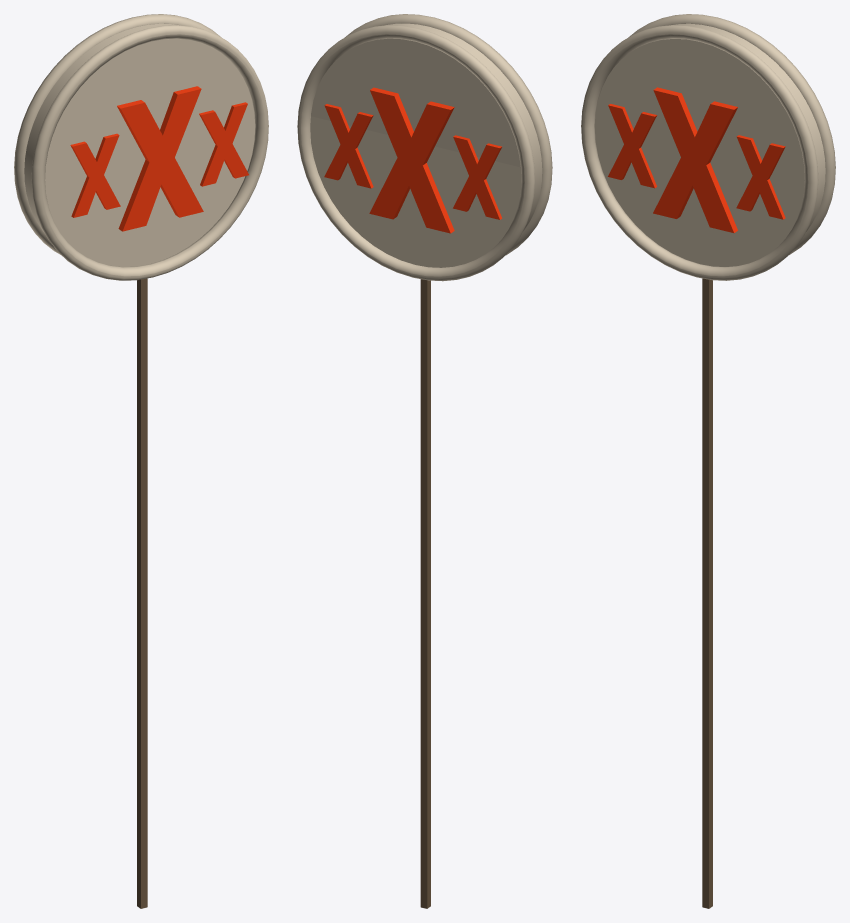
The model's file is pearl_sign_sm.glb.
The picture shows the model from 3 angles, left to right: view 1: azimuth 30°, elevation 25°; view 2: azimuth 150°, elevation 25°; view 3: azimuth 330°, elevation 25°; orthographic projection.
Visible parts, largest first — view 1: Ellipse 3, Ellipse 4 (×2), Text (×3), Rectangle; view 2: Ellipse 3 (×2), Ellipse 4 (×2), Text (×3), Rectangle; view 3: Ellipse 3, Ellipse 4 (×2), Text (×3), Rectangle.
Boxes of the visible parts, bbox=[...] form: Ellipse 3: bbox=[24, 23, 255, 266]; Ellipse 4 (×2): bbox=[14, 14, 268, 280]; Text (×3): bbox=[70, 86, 248, 231]; Rectangle: bbox=[137, 278, 147, 908]; Ellipse 3 (×2): bbox=[310, 23, 542, 267]; Ellipse 4 (×2): bbox=[297, 14, 552, 281]; Text (×3): bbox=[324, 87, 502, 233]; Rectangle: bbox=[420, 279, 430, 908]; Ellipse 3: bbox=[594, 23, 825, 266]; Ellipse 4 (×2): bbox=[581, 14, 835, 280]; Text (×3): bbox=[608, 87, 785, 232]; Rectangle: bbox=[702, 278, 712, 908].
Bounding box in the file's own units: 1.06 × 3.8 × 0.2863.
